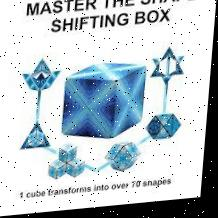cube: (63, 62, 150, 143)
